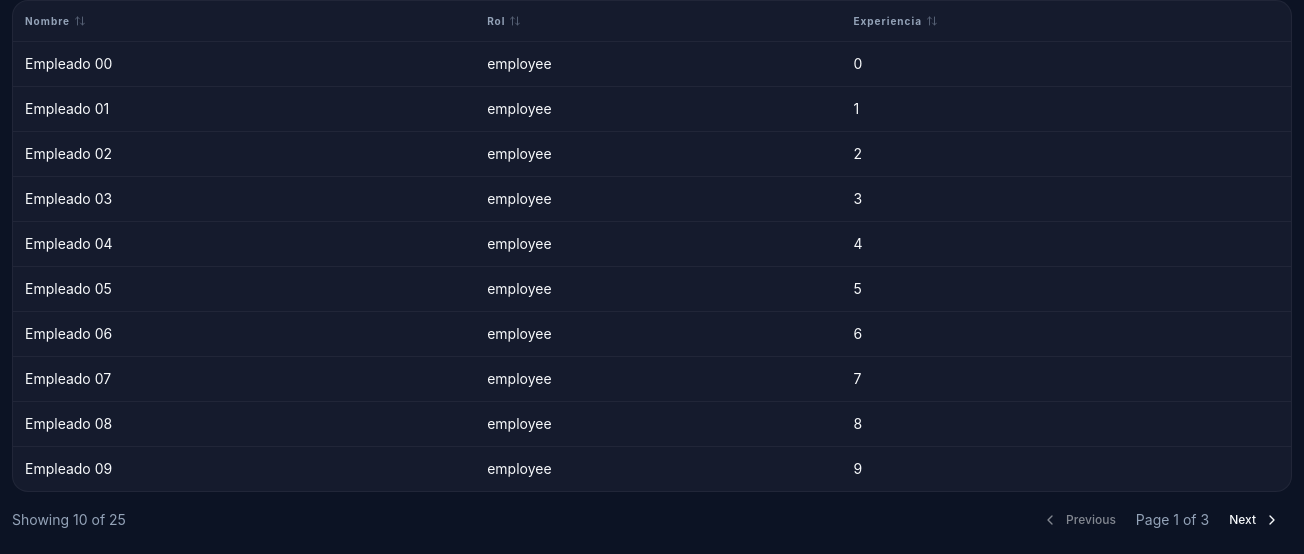
Test: DataTable › pagina cuando se setea pageSize y navega con prev/next
Expected: the text with test id "datatable-page-info" reads "Page 1 of 3", [1136,510,1209,528]
Expected: the text with test id "datatable-page-summary" reads "Showing 10 of 25", [12,510,126,528]
Click the button with test id "datatable-next" at (1255, 520), box [1217,504,1292,536]
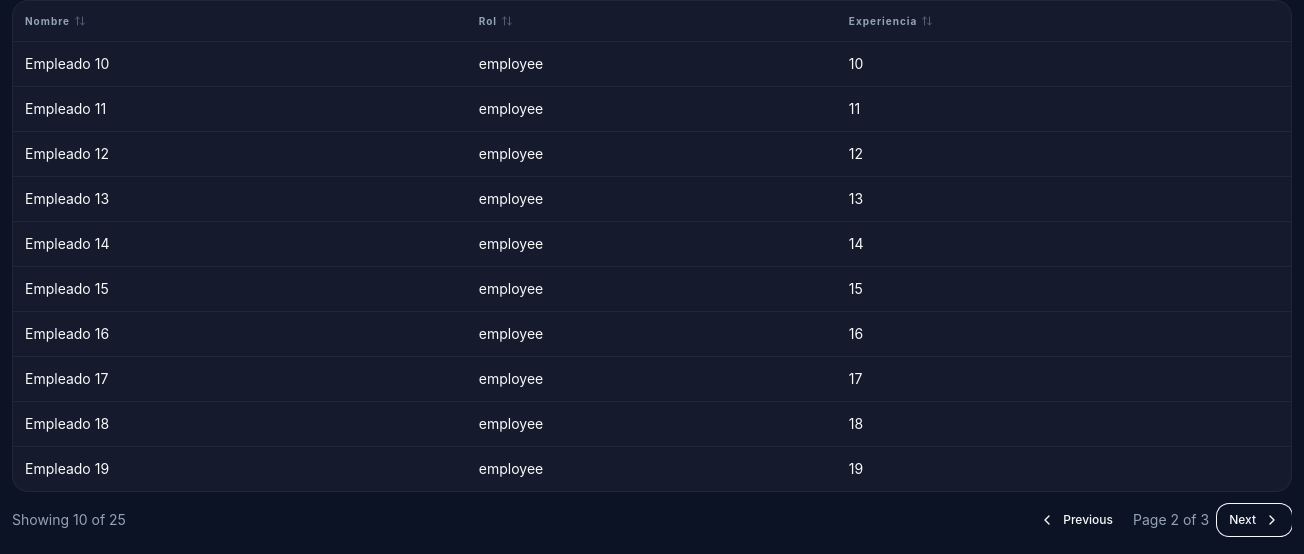
Expected: the text with test id "datatable-page-info" reads "Page 2 of 3", [1133,510,1209,528]
Expected: the row with test id "datatable-row-r10" is shown, [13,41,1291,86]
Expected: the row with test id "datatable-row-r0" is gone
Click the button with test id "datatable-next" at (1255, 520), box [1217,504,1292,536]
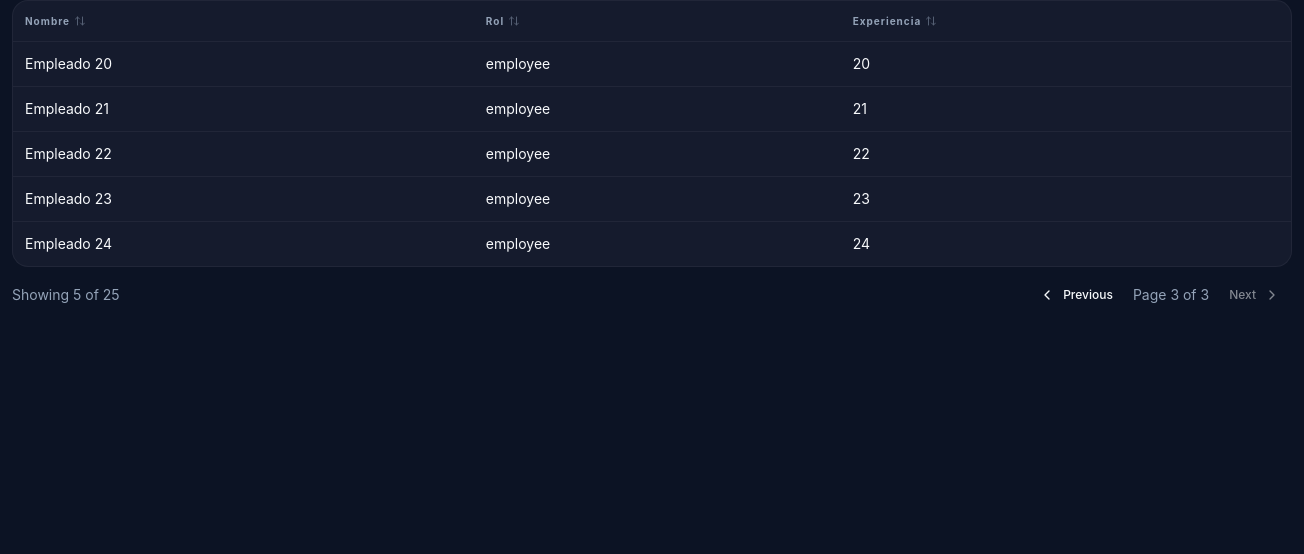
Expected: the text with test id "datatable-page-info" reads "Page 3 of 3", [1133,286,1209,302]
Expected: the button with test id "datatable-next" is disabled, [1217,278,1292,310]
